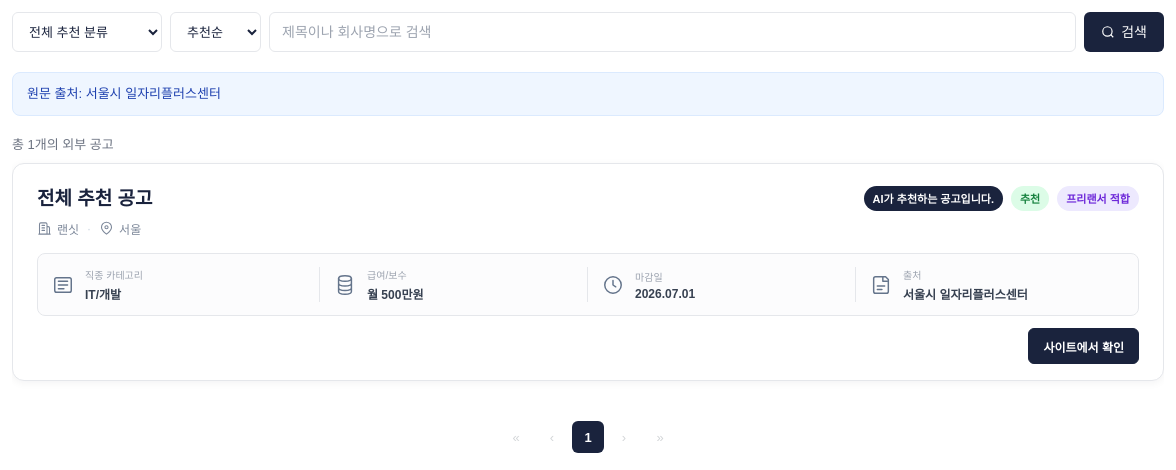
Scenario: ExternalJobListPanel › hides the AI recommendation copy when the RECOMMENDED recommendation filter is selected
Step 1. Select "추천" in the dropdown named "추천 분류" → [87, 32], box [12, 12, 162, 52]
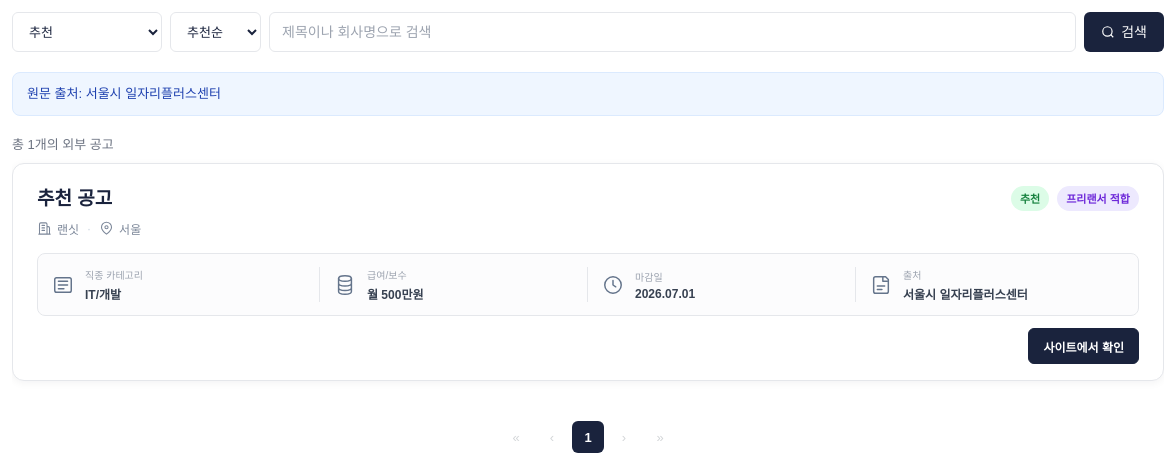
expect the text "추천 공고" is shown: met, box [37, 188, 112, 208]
expect the text "AI가 추천하는 공고입니다." is gone: met
